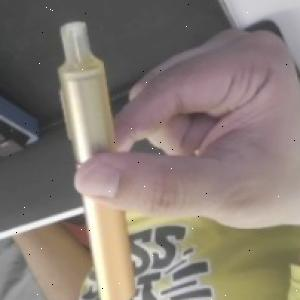Golden-E-Ciggirate: (58, 19, 141, 300)
